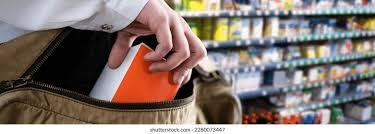shoplifting: (64, 0, 216, 123)
